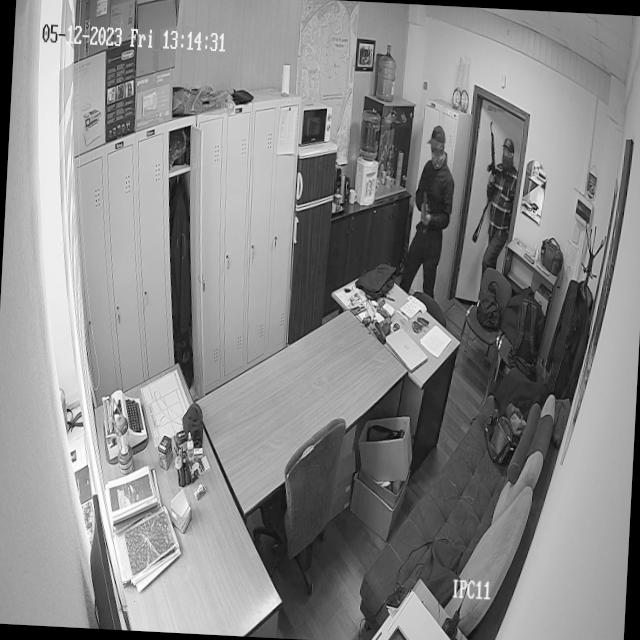gun: (482, 118, 502, 196), (418, 190, 431, 231)
person with a gun: (404, 122, 458, 296), (476, 118, 520, 270)
